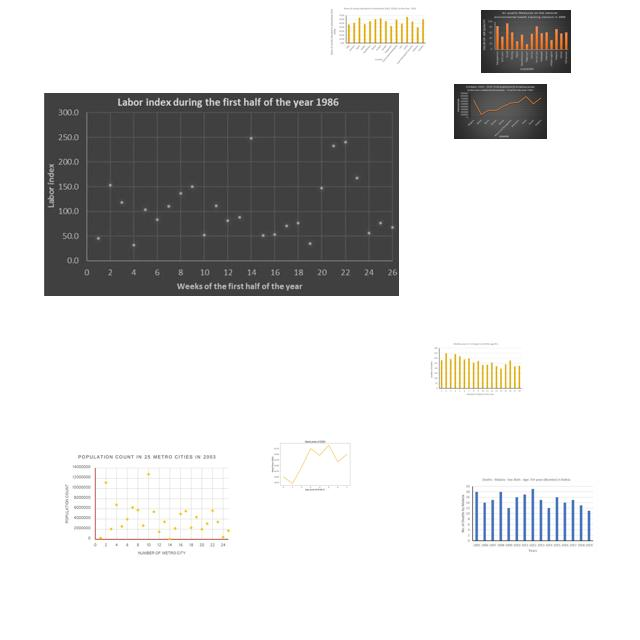Graph: (44, 93, 399, 296), (63, 452, 233, 558), (457, 476, 597, 557), (330, 5, 428, 65), (481, 10, 571, 73), (269, 433, 359, 495), (428, 341, 524, 398), (454, 84, 547, 139)
